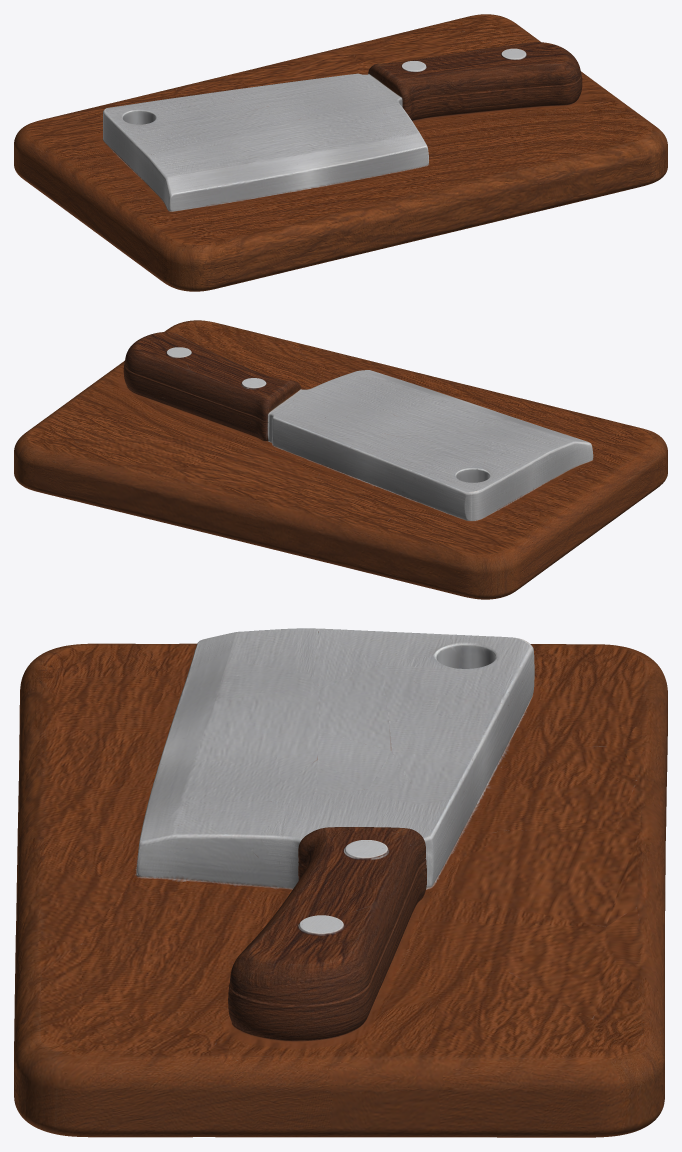
Rendered from cleaver_board.glb.
The picture shows the model from 3 angles, top to bottom: view 1: azimuth 30°, elevation 25°; view 2: azimuth 150°, elevation 25°; view 3: azimuth 270°, elevation 25°; orthographic projection. The views are drawn at different scales.
Size of the model in its own units: 1.9 by 0.3037 by 1.21.
Materials: 1 (1 with a texture image).
